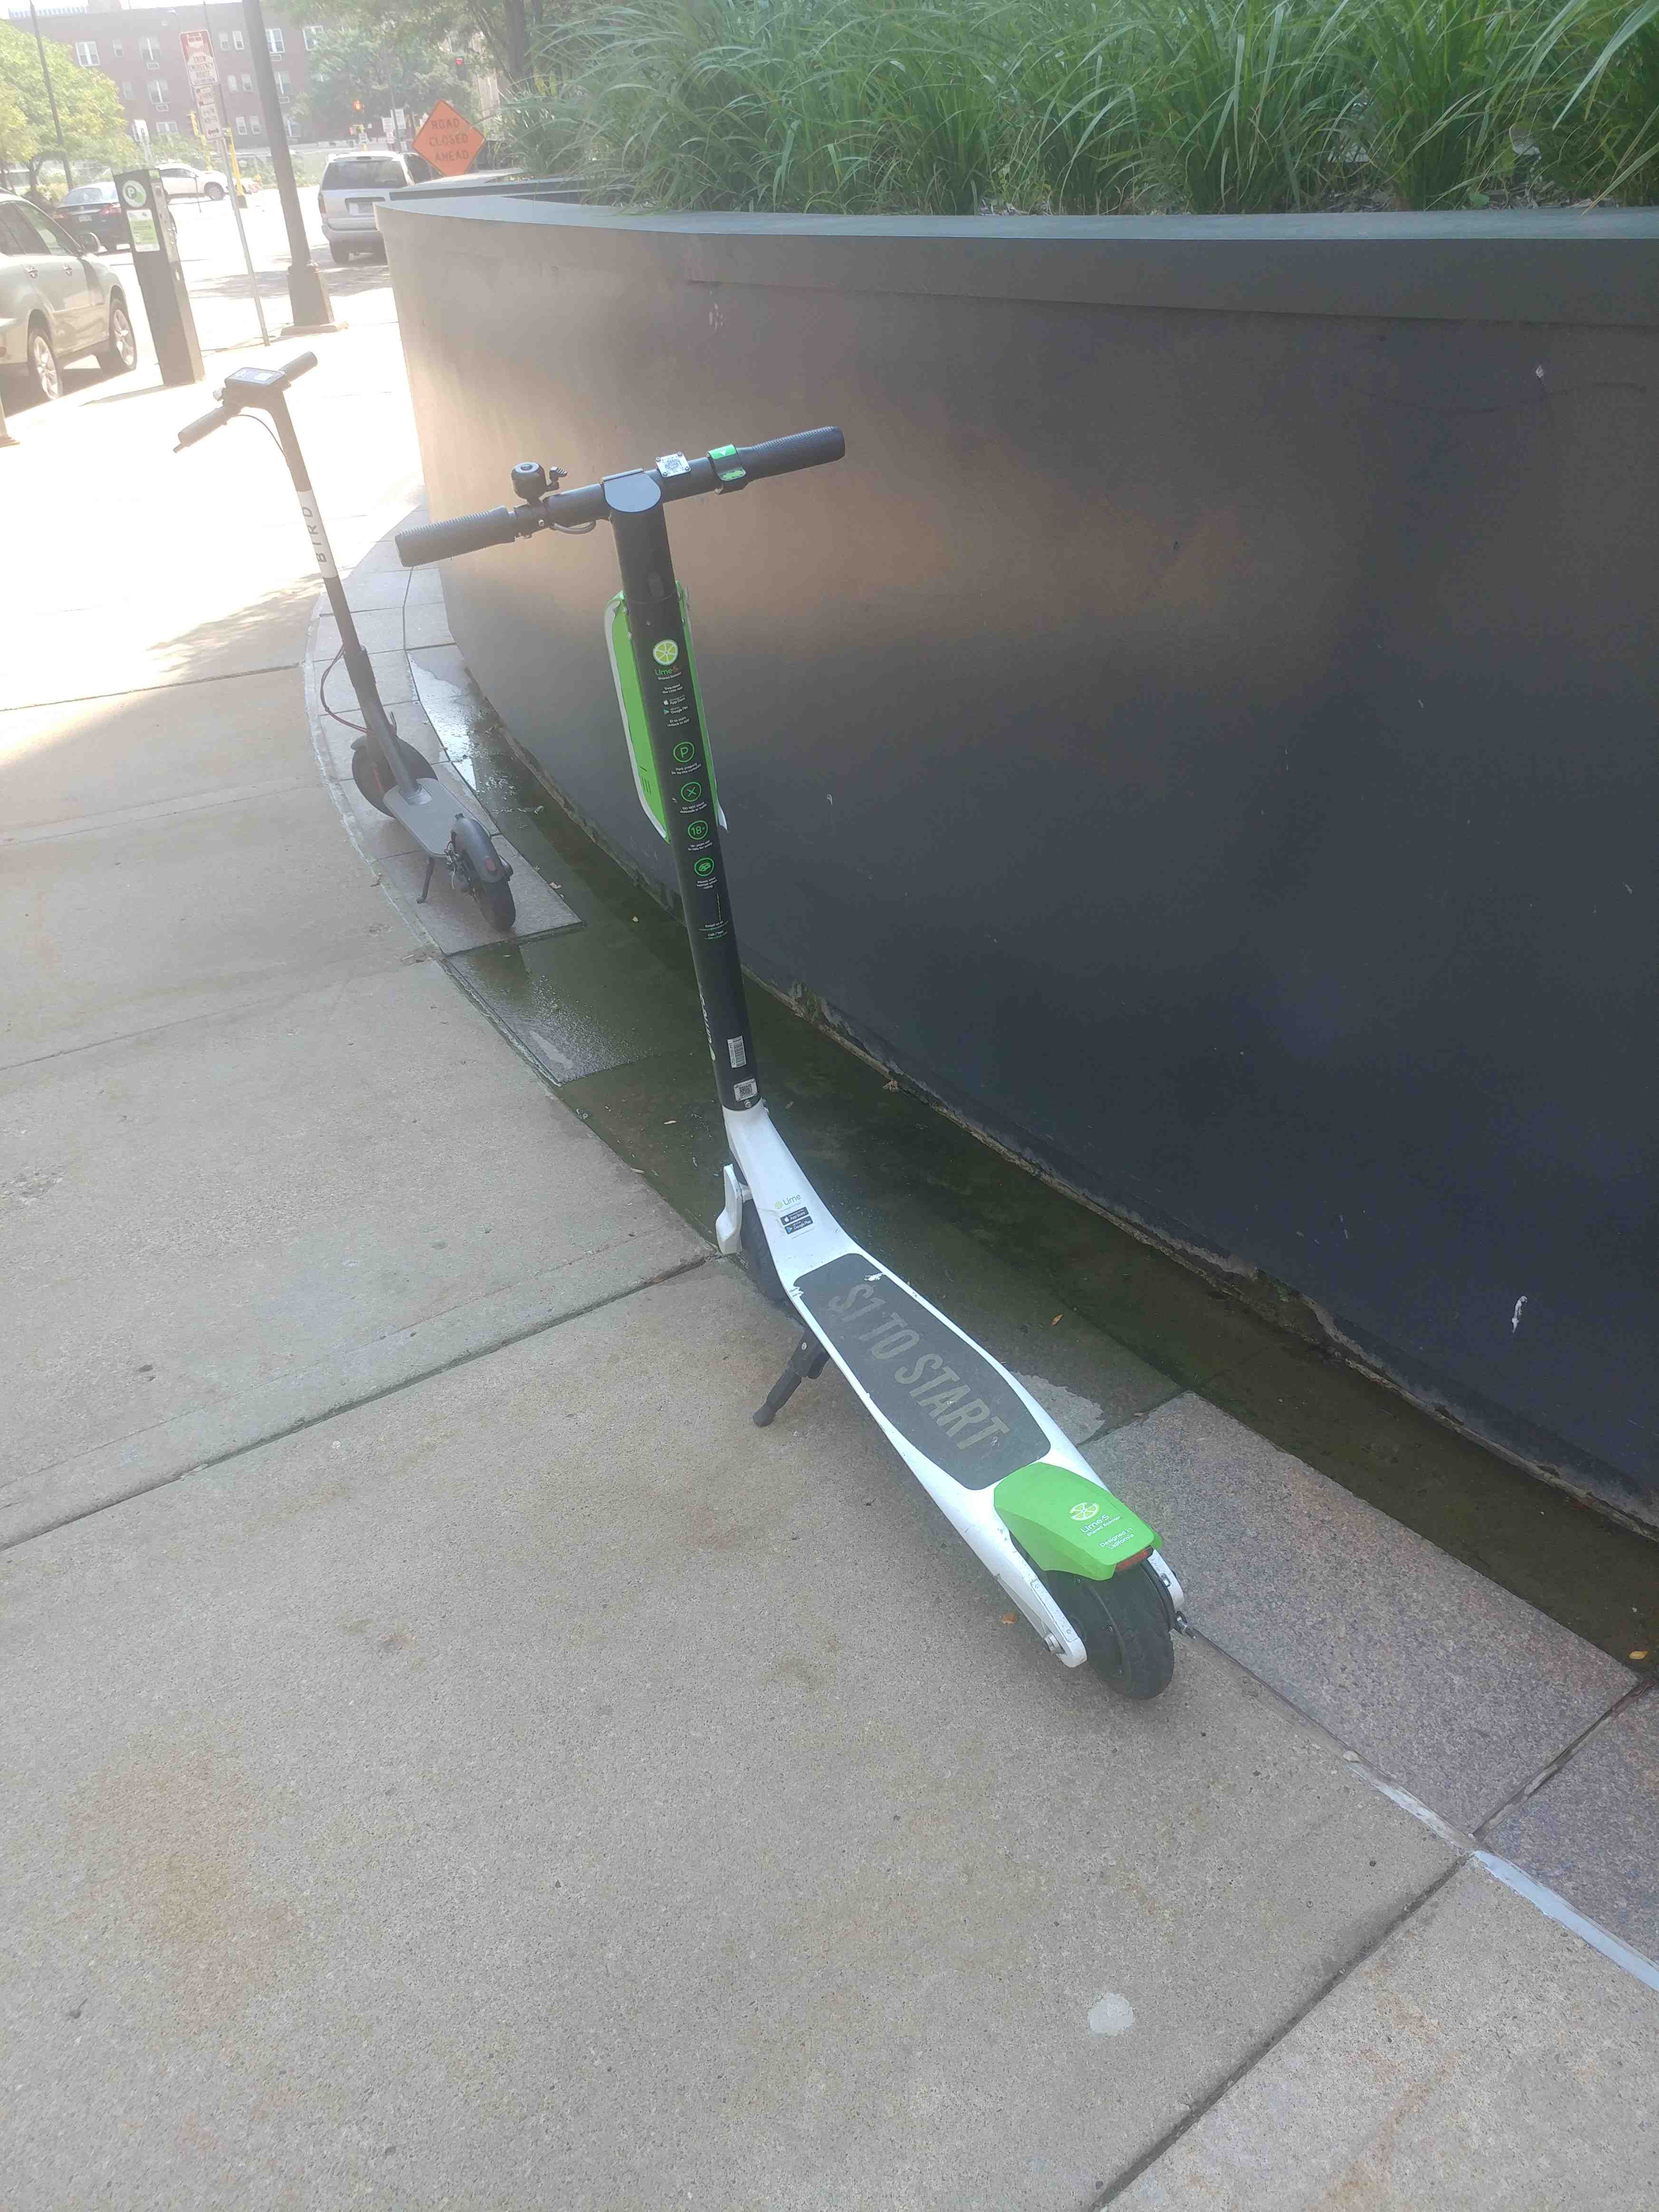scooter: (375, 392, 1236, 1717)
